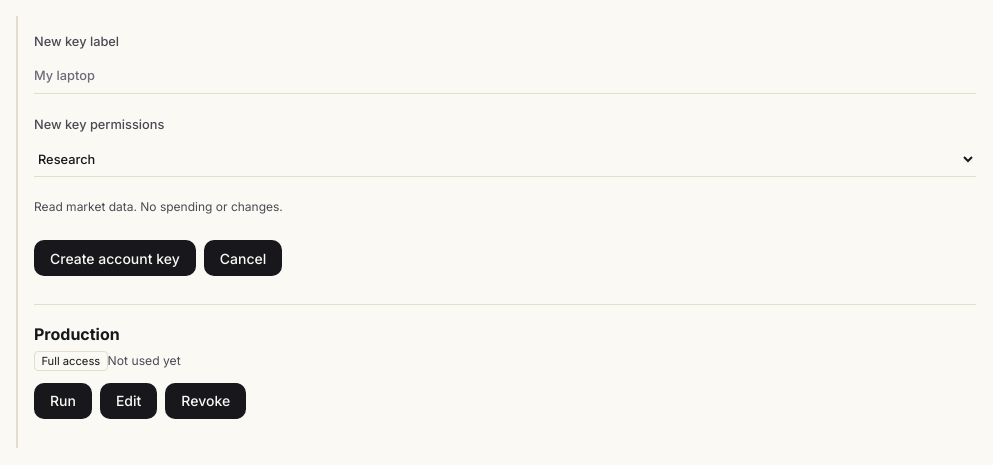
Scenario: a create request from the section heading opens the key form without a duplicate button
The width and height of the screenshot is (993, 465).
Expected: the text "Production" is shown, [34,322,120,347]
Expected: the field labelled "New key label" is shown, [34,58,976,94]
Click the button "Cancel" at (243, 258), box [204,240,282,276]
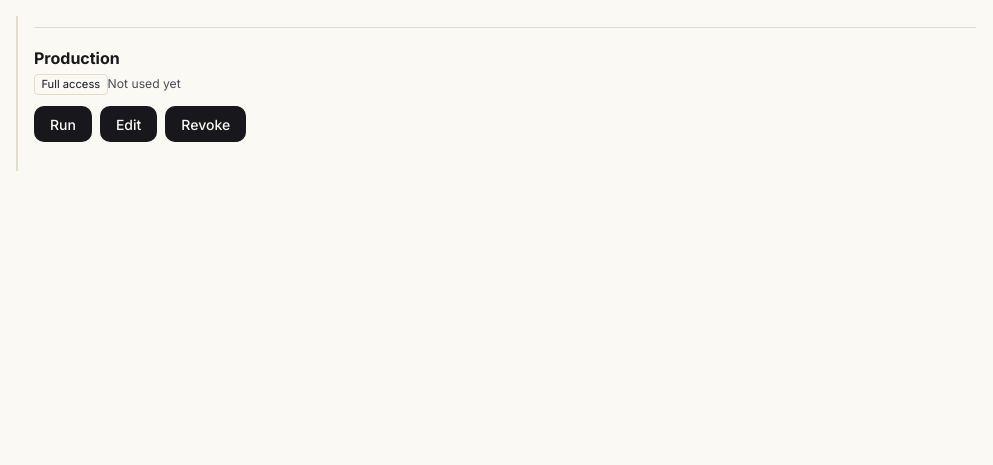
Now the label labelled "New key label" is gone
